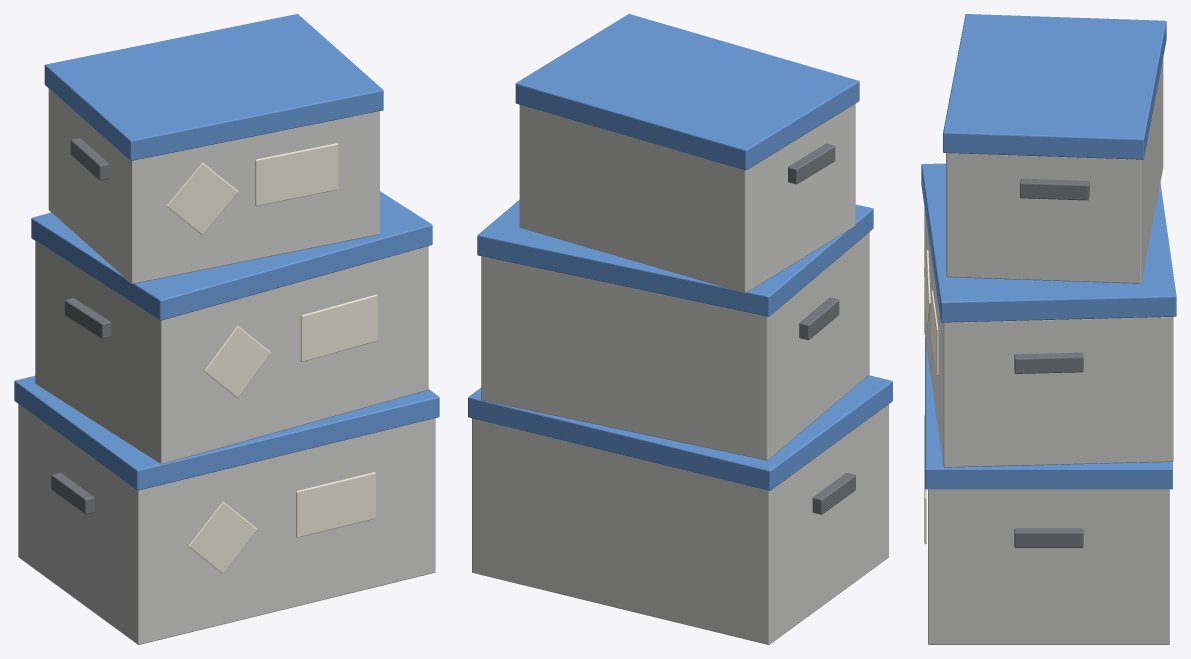
Rendered from courier_coolers.glb.
3 views of the same model, side by side, from view 1: azimuth 30°, elevation 25°; view 2: azimuth 150°, elevation 25°; view 3: azimuth 270°, elevation 25° (orthographic).
Visible parts, largest first — view 1: courier_coolers; view 2: courier_coolers; view 3: courier_coolers.
Part boxes in pixels (x1,y1,x2,y2): courier_coolers: (14, 14, 439, 644); courier_coolers: (468, 14, 892, 644); courier_coolers: (921, 14, 1176, 644).
Bounding box in the file's own units: 0.64 × 0.94 × 0.4432.
